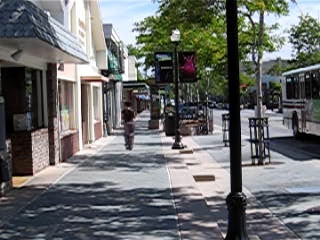person: (122, 102, 137, 153), (121, 102, 136, 153), (123, 102, 138, 153), (122, 101, 137, 152), (122, 103, 137, 154)
target_negative: (105, 85, 271, 117), (240, 118, 278, 180), (186, 161, 260, 175), (247, 118, 256, 189), (177, 210, 243, 218), (228, 14, 233, 94)
